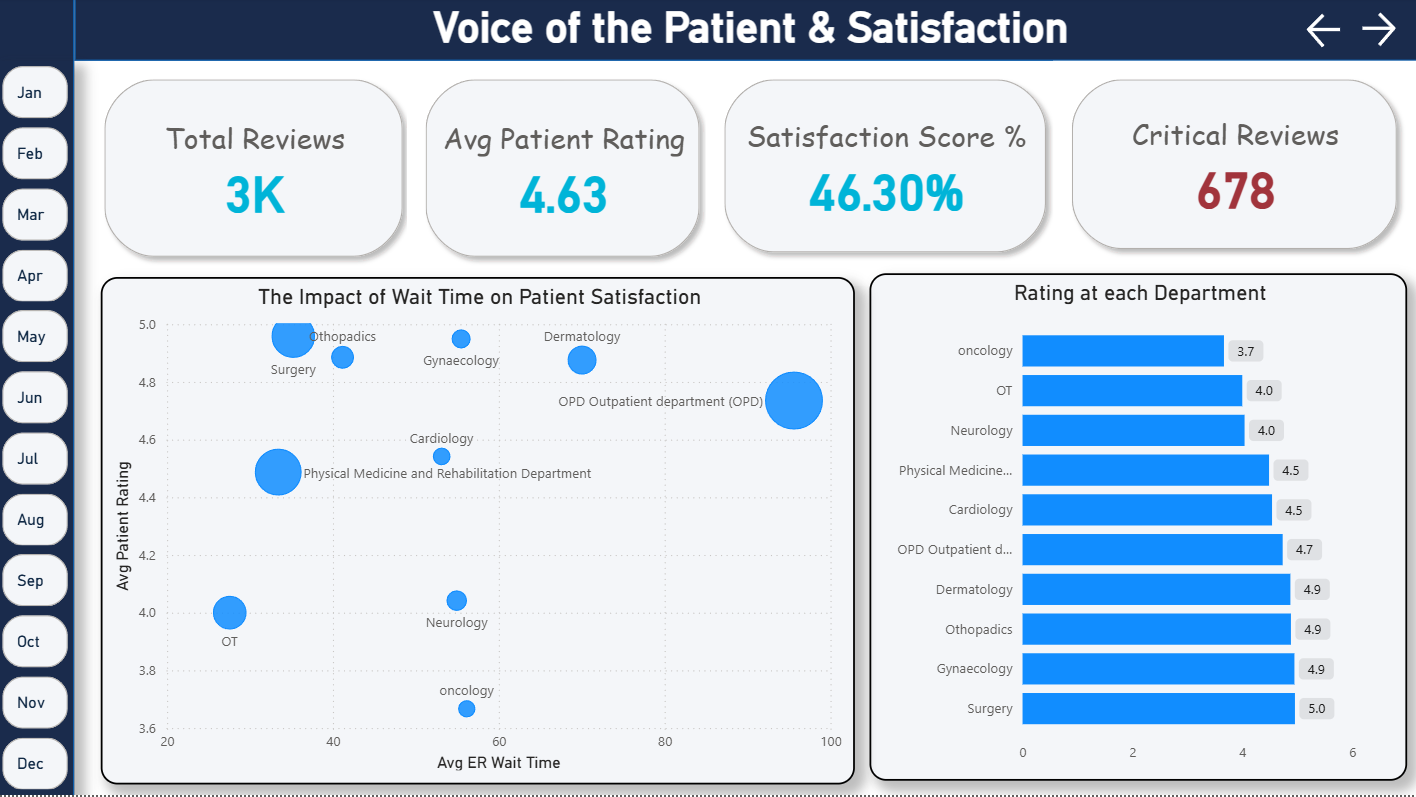

What the dashboard file says about the page in this screenshot:
{"tool":"powerbi","page":{"name":"Patient Voice","canvas":[1280,720],"ordinal":4},"visuals":[{"type":"cardVisual","fields":{"Data":["dax 2.Total Reviews"]},"box":[79.5,57.5,303.3,194.4],"z":0},{"type":"cardVisual","fields":{"Data":["dax 2.Avg Patient Rating"]},"box":[369.3,57.5,281.3,194.4],"z":1000},{"type":"cardVisual","fields":{"Data":["dax 2.Satisfaction Score %"]},"box":[639.5,57.5,324.1,190.8],"z":2000},{"type":"shape","box":[69.7,0,1210.6,57.5],"z":3000},{"type":"textbox","box":[368.1,0,622.4,57.5],"z":4000},{"type":"cardVisual","fields":{"Data":["dax 2.Critical Reviews"]},"box":[952.6,57.5,327.7,187.1],"z":5000},{"type":"barChart","title":"Rating at each Department","fields":{"Category":["Dep.Department_Name"],"Y":["dax 2.Avg Patient Rating"]},"box":[786.2,248.8,485,457.5],"z":6000},{"type":"scatterChart","title":"The Impact of Wait Time on Patient Satisfaction","fields":{"X":["dax 2.Avg ER Wait Time"],"Y":["dax 2.Avg Patient Rating"],"Category":["Dep.Department_Name"],"Size":["dax 2.Total Reviews"]},"box":[93.8,252.5,680,457.5],"z":7000},{"type":"shape","box":[0,0,69.7,721.5],"z":8000},{"type":"advancedSlicerVisual","fields":{"Values":["Calendar.Month_Name"]},"box":[0,57.2,69.7,662.8],"z":9000},{"type":"actionButton","box":[1225.3,8.6,46.5,40.4],"z":10000},{"type":"actionButton","box":[1176.4,9.8,48.9,40.4],"z":11000}]}

Visuals, with their boxes in screenshot pixels (x1, y1, x2, y2), scaled from the page's 1280x720 canvas onto the 1416x797 screenshot:
cardVisual - dax 2.Total Reviews: select_region(88, 64, 423, 279)
cardVisual - dax 2.Avg Patient Rating: select_region(409, 64, 720, 279)
cardVisual - dax 2.Satisfaction Score %: select_region(707, 64, 1066, 275)
shape: select_region(77, 0, 1415, 64)
textbox: select_region(407, 0, 1096, 64)
cardVisual - dax 2.Critical Reviews: select_region(1054, 64, 1415, 271)
"Rating at each Department" barChart: select_region(870, 275, 1406, 782)
"The Impact of Wait Time on Patient Satisfaction" scatterChart: select_region(104, 280, 856, 786)
shape: select_region(0, 0, 77, 796)
advancedSlicerVisual - Calendar.Month_Name: select_region(0, 63, 77, 796)
actionButton: select_region(1355, 10, 1407, 54)
actionButton: select_region(1301, 11, 1355, 56)
